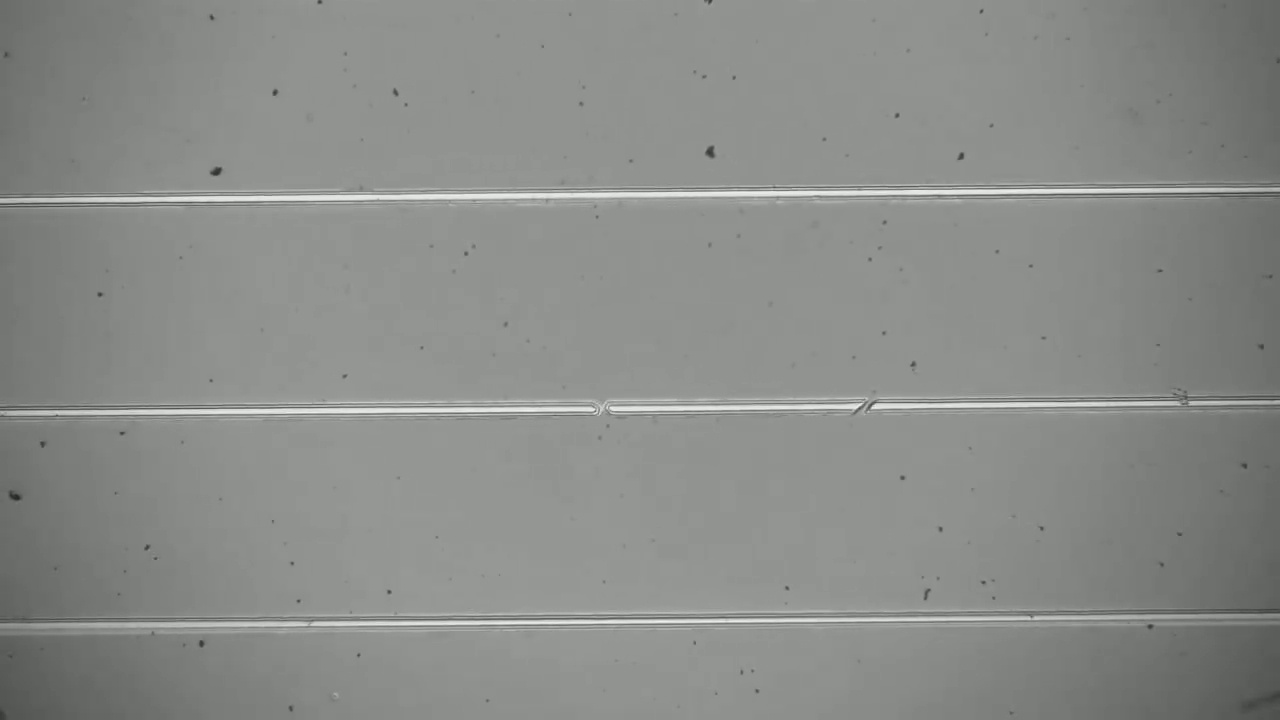open: (582, 390, 623, 429), (840, 392, 890, 420)
stains_enbedded: (1169, 381, 1193, 418)
